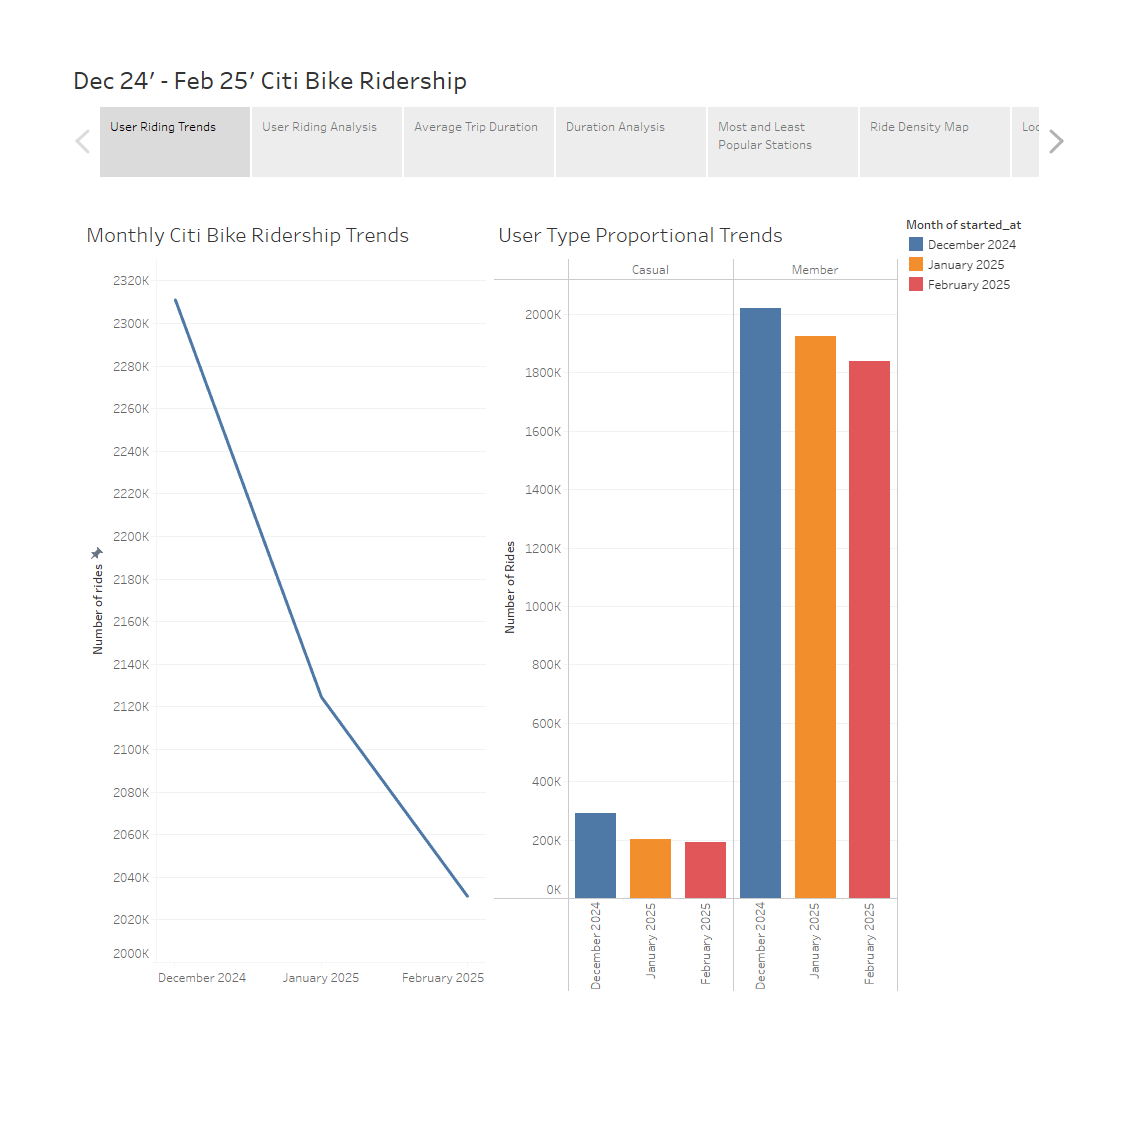

What the dashboard file says about the page in this screenshot:
{"tool":"tableau","page":{"name":"User Riding Trends","canvas":[1000,800],"ordinal":4},"visuals":[{"type":"worksheet","title":"Monthly Citi Bike Ridership Trends","mark":"Automatic","rows":["ride_id"],"cols":["started_at"],"box":[8,8,412,784]},{"type":"worksheet","title":"User Type Proportional Trends","mark":"Bar","rows":["ride_id"],"cols":["member_casual","started_at"],"box":[420,8,412,784]},{"type":"legend","title":"User Type Proportional Trends","param":"[federated.071hc2e0wwvsp81g4i9sd1pbetc4].[tmn:started_at:ok]","box":[832,8,160,86]}]}

Visuals, with their boxes on the page's 1000x800 design canvas (x1, y1, x2, y2). These are canvas units, not pixel positions in the 1146x1128 screenshot, which may show the page scaled, cropped or inside an application window:
"Monthly Citi Bike Ridership Trends" worksheet: Rect(8, 8, 420, 792)
"User Type Proportional Trends" worksheet (Bar marks): Rect(420, 8, 832, 792)
"User Type Proportional Trends" legend: Rect(832, 8, 992, 94)
